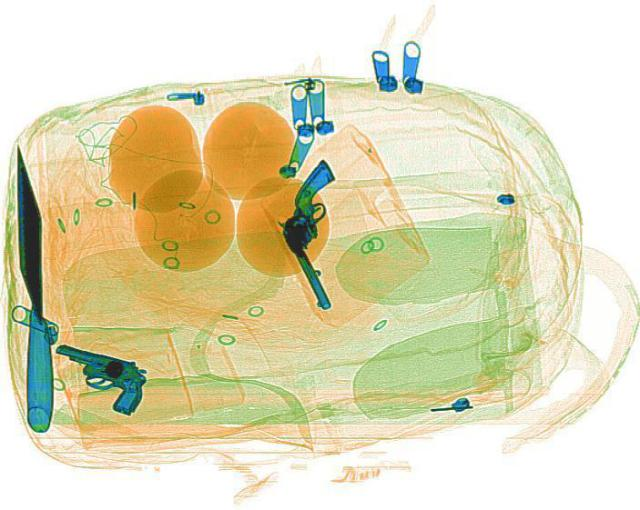Gun: (256, 157, 380, 309), (33, 341, 155, 414)
Knife: (12, 143, 54, 428)
